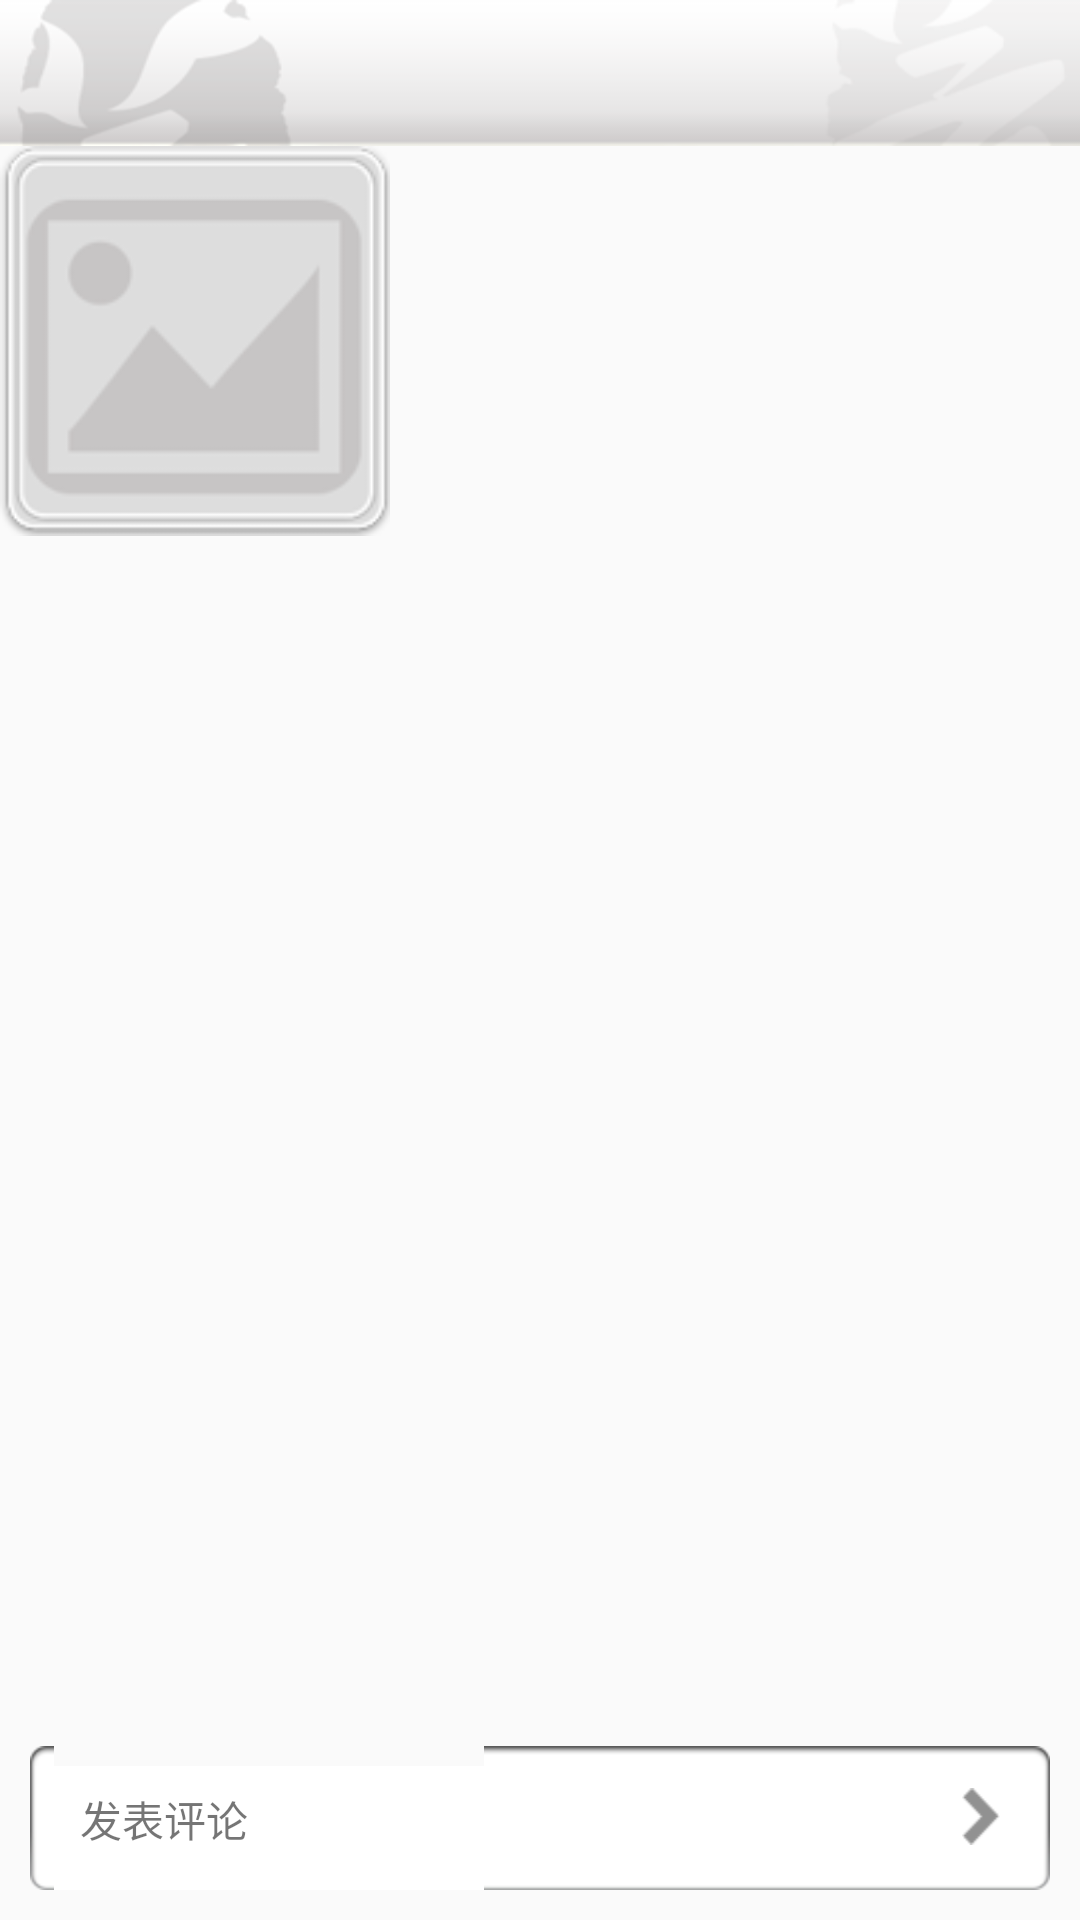

Icons on this 1080px x 1920px Android screen, each with its box as rect(x1, y1, x2, y2):
chevron: rect(963, 1788, 999, 1845)
